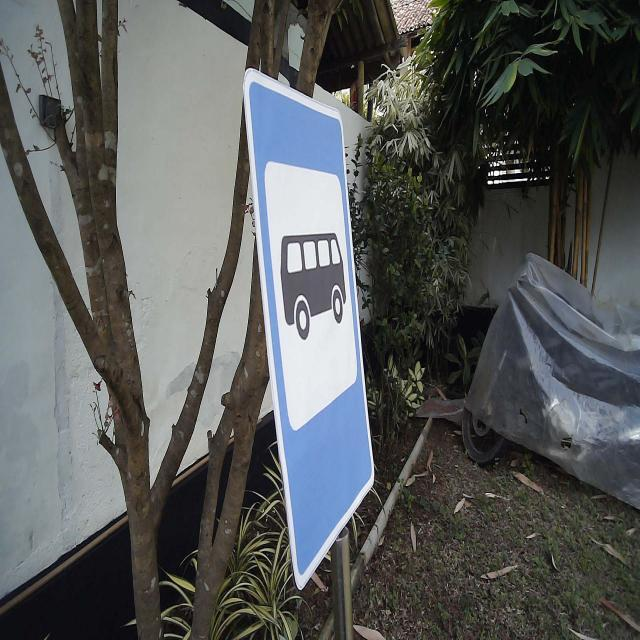bus_stop: (241, 64, 376, 592)
